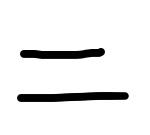eqv: (17, 48, 129, 102)
